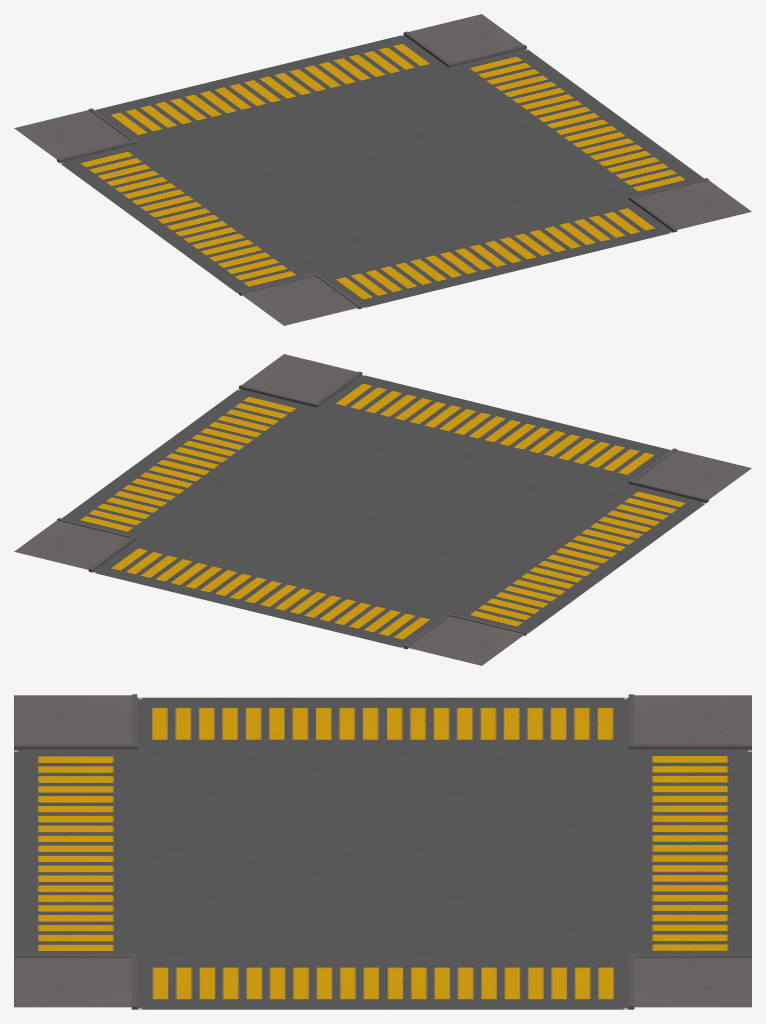
File: SM_Floor_Road_16.fbx
3 renders of one model, top to bottom at view 1: azimuth 30°, elevation 25°; view 2: azimuth 150°, elevation 25°; view 3: azimuth 270°, elevation 25°, orthographic. The views are drawn at different scales.
Parts seen in each view (by area): view 1: SM_Floor_Road_16; view 2: SM_Floor_Road_16; view 3: SM_Floor_Road_16.
Part boxes in pixels (bbox=[...]): SM_Floor_Road_16: bbox=[14, 14, 751, 325]; SM_Floor_Road_16: bbox=[14, 354, 751, 665]; SM_Floor_Road_16: bbox=[14, 694, 751, 1009].
Bounding box in the file's own units: 15 × 0.075 × 15.
